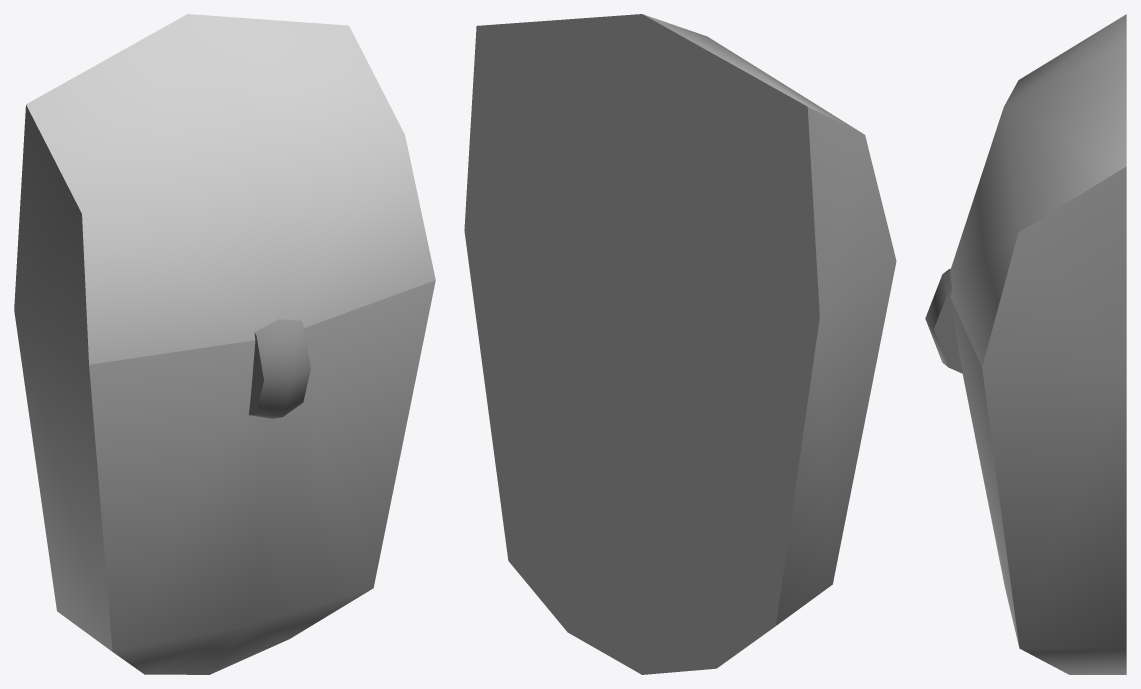
The model's file is Pc_Mouse.obj.
3 views of the same model, side by side, from view 1: azimuth 30°, elevation 25°; view 2: azimuth 150°, elevation 25°; view 3: azimuth 270°, elevation 25° (orthographic). The views are drawn at different scales.
Visible parts, largest first — view 1: Pc_Mouse; view 2: Pc_Mouse; view 3: Pc_Mouse.
Part boxes in pixels (box(x1,y1,x2,y2)): Pc_Mouse: box(14, 14, 435, 674); Pc_Mouse: box(464, 14, 896, 674); Pc_Mouse: box(925, 14, 1126, 674).
Size of the model in its own units: 0.0826 by 0.1469 by 0.0431.
